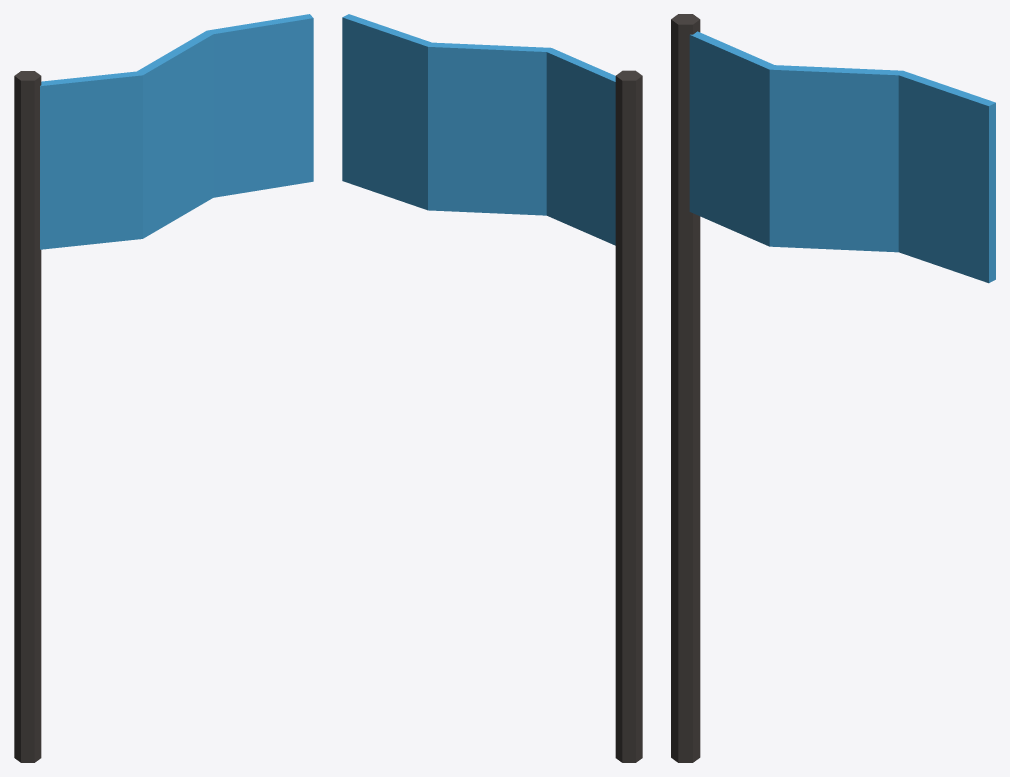
The model's file is Space_flag.fbx.
The picture shows the model from 3 angles, left to right: view 1: azimuth 30°, elevation 25°; view 2: azimuth 150°, elevation 25°; view 3: azimuth 330°, elevation 25°; orthographic projection. The views are drawn at different scales.
Parts seen in each view (by area): view 1: Cylinder; view 2: Cylinder; view 3: Cylinder.
Part boxes in pixels (left/top/right/bottom): Cylinder: left=14, top=14, right=313, bottom=762; Cylinder: left=342, top=14, right=642, bottom=762; Cylinder: left=671, top=14, right=995, bottom=762.
Size of the model in its own units: 264 by 584 by 46.37.
